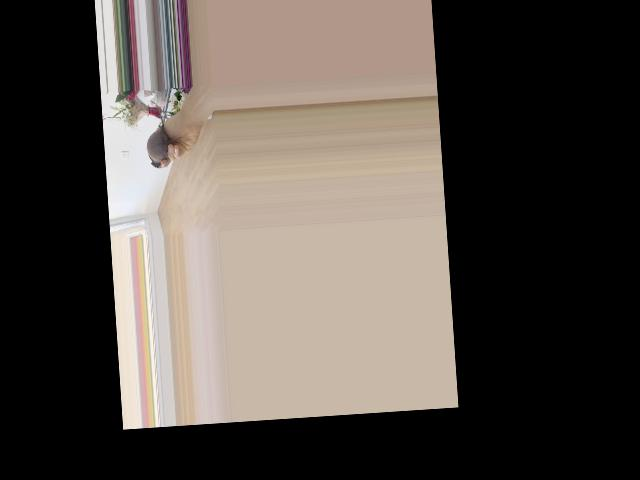beet: (144, 100, 171, 169)
